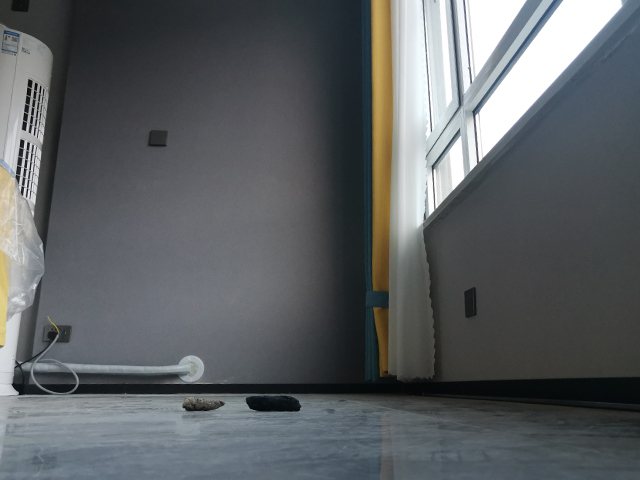curtain: (361, 1, 440, 387)
feces: (244, 393, 302, 413), (179, 396, 227, 413)
wire: (13, 314, 81, 396)
